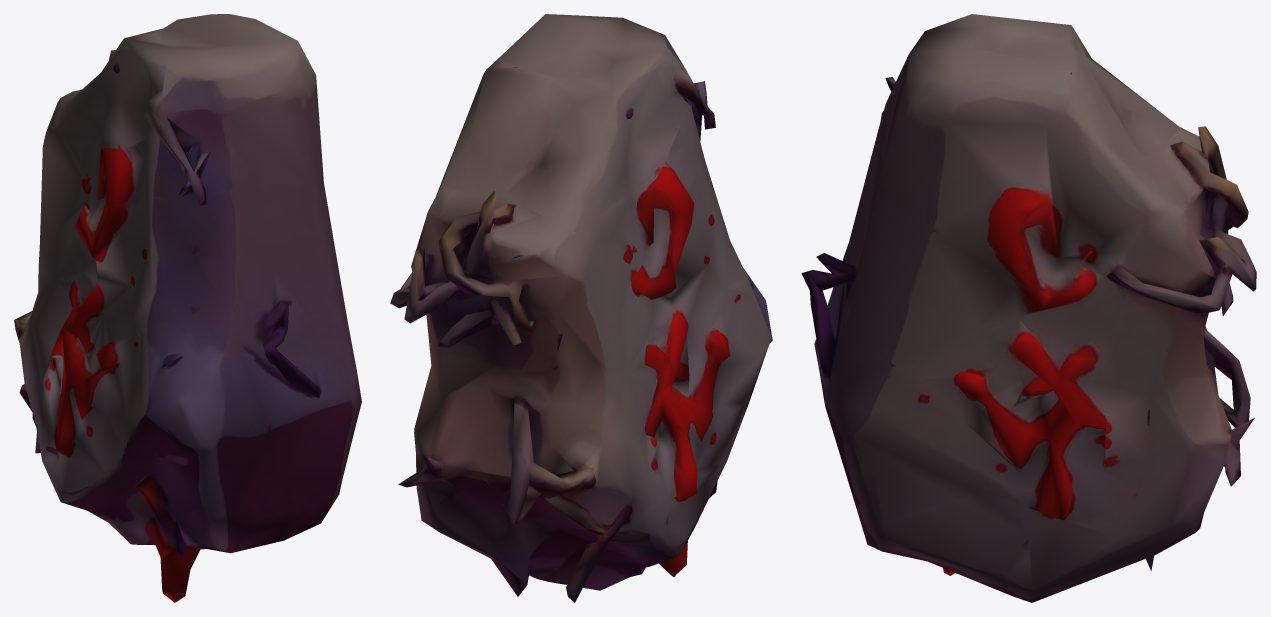
Rendered from relic-whetstone.glb.
3 views of the same model, side by side, from view 1: azimuth 30°, elevation 25°; view 2: azimuth 150°, elevation 25°; view 3: azimuth 270°, elevation 25° (orthographic). The views are drawn at different scales.
Visible parts, largest first — view 1: tripo_node_f8770460-5941-4bb9-8627-b7c6143b091b; view 2: tripo_node_f8770460-5941-4bb9-8627-b7c6143b091b; view 3: tripo_node_f8770460-5941-4bb9-8627-b7c6143b091b.
Boxes of the visible parts, <box> form: tripo_node_f8770460-5941-4bb9-8627-b7c6143b091b: <box>14,14,361,602</box>; tripo_node_f8770460-5941-4bb9-8627-b7c6143b091b: <box>390,14,772,602</box>; tripo_node_f8770460-5941-4bb9-8627-b7c6143b091b: <box>801,14,1256,602</box>.
Bounding box in the file's own units: 0.447 × 1 × 0.7263.
Materials: 1 (1 with a texture image).
